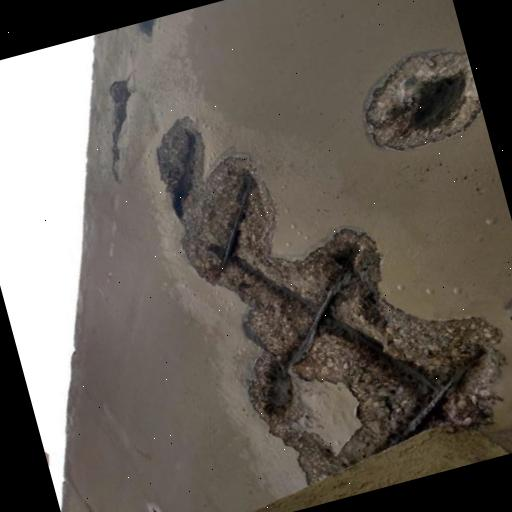spalling: (151, 105, 496, 482), (346, 36, 488, 162)
